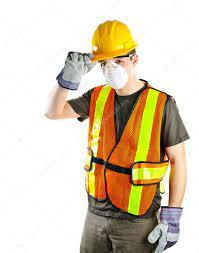Gloves: (149, 204, 188, 253), (59, 49, 92, 91)
Helmet: (87, 19, 141, 60)
Jacket: (86, 79, 158, 214)
